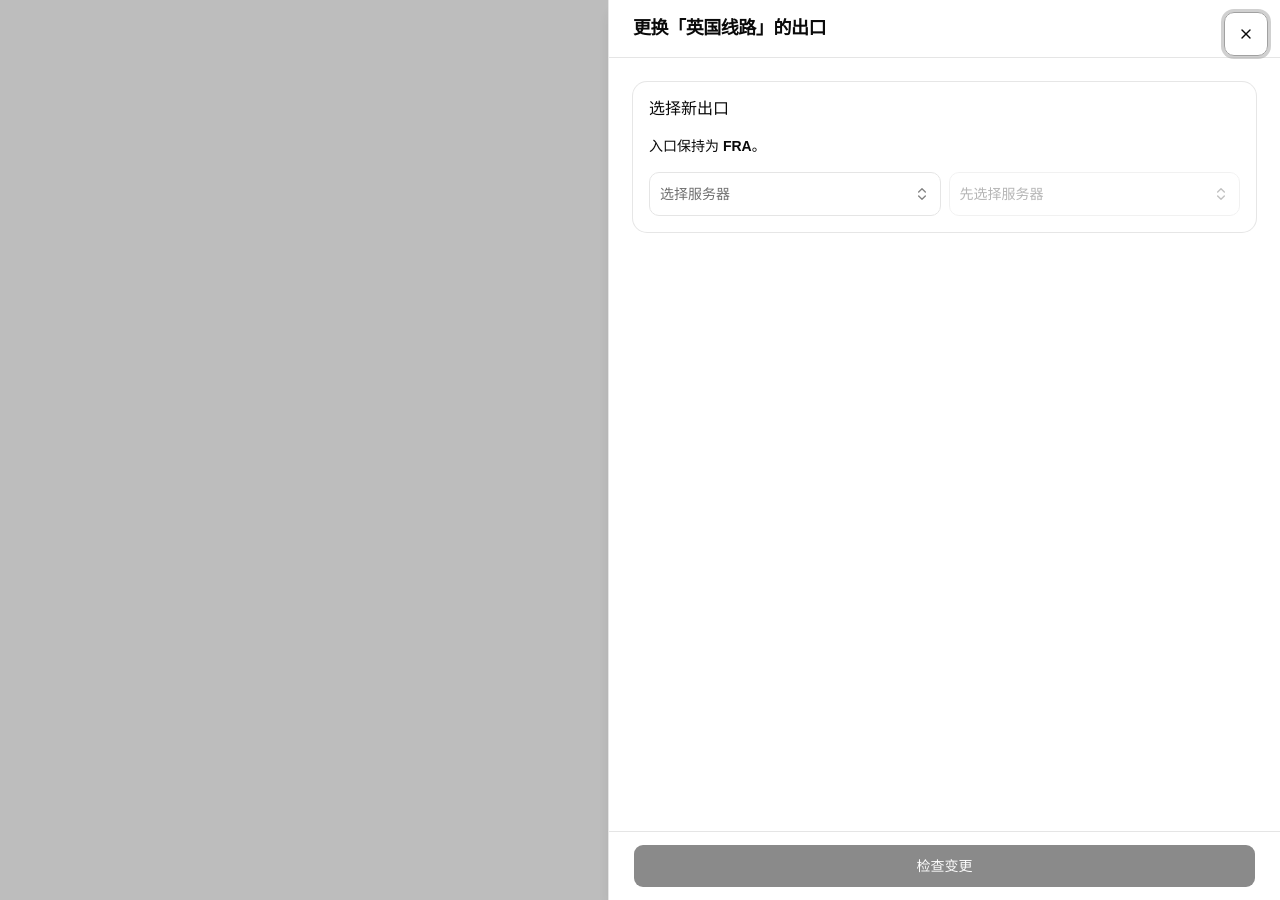
Test case: shows TLS removal explicitly and does not display raw security values
Click the dropdown named "新出口服务器" at (695, 194), box [649, 172, 940, 216]
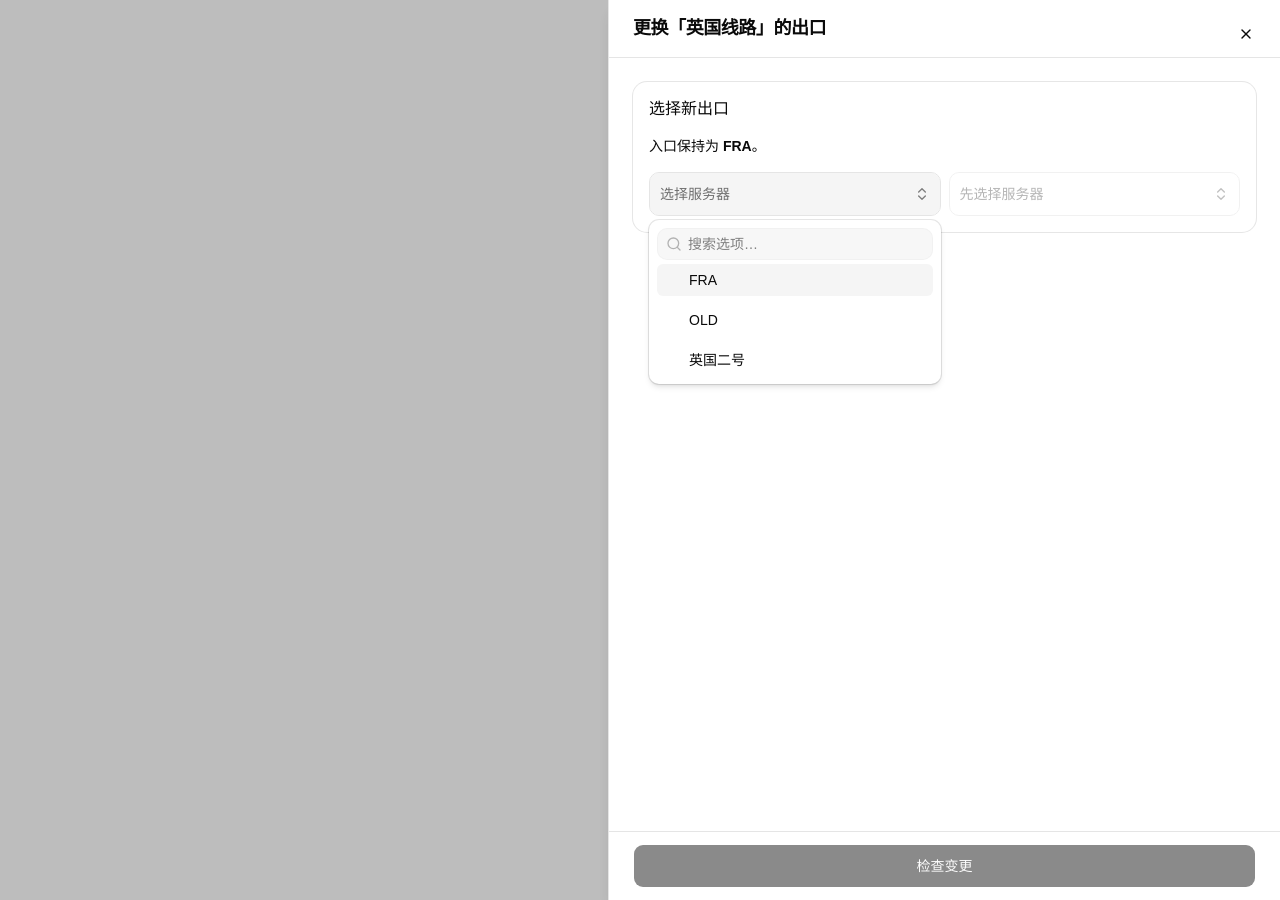
expect the dialog "FRA OLD 英国二号" is shown: met, box [649, 220, 940, 384]
Click the option "英国二号" at (717, 360), box [689, 352, 745, 368]
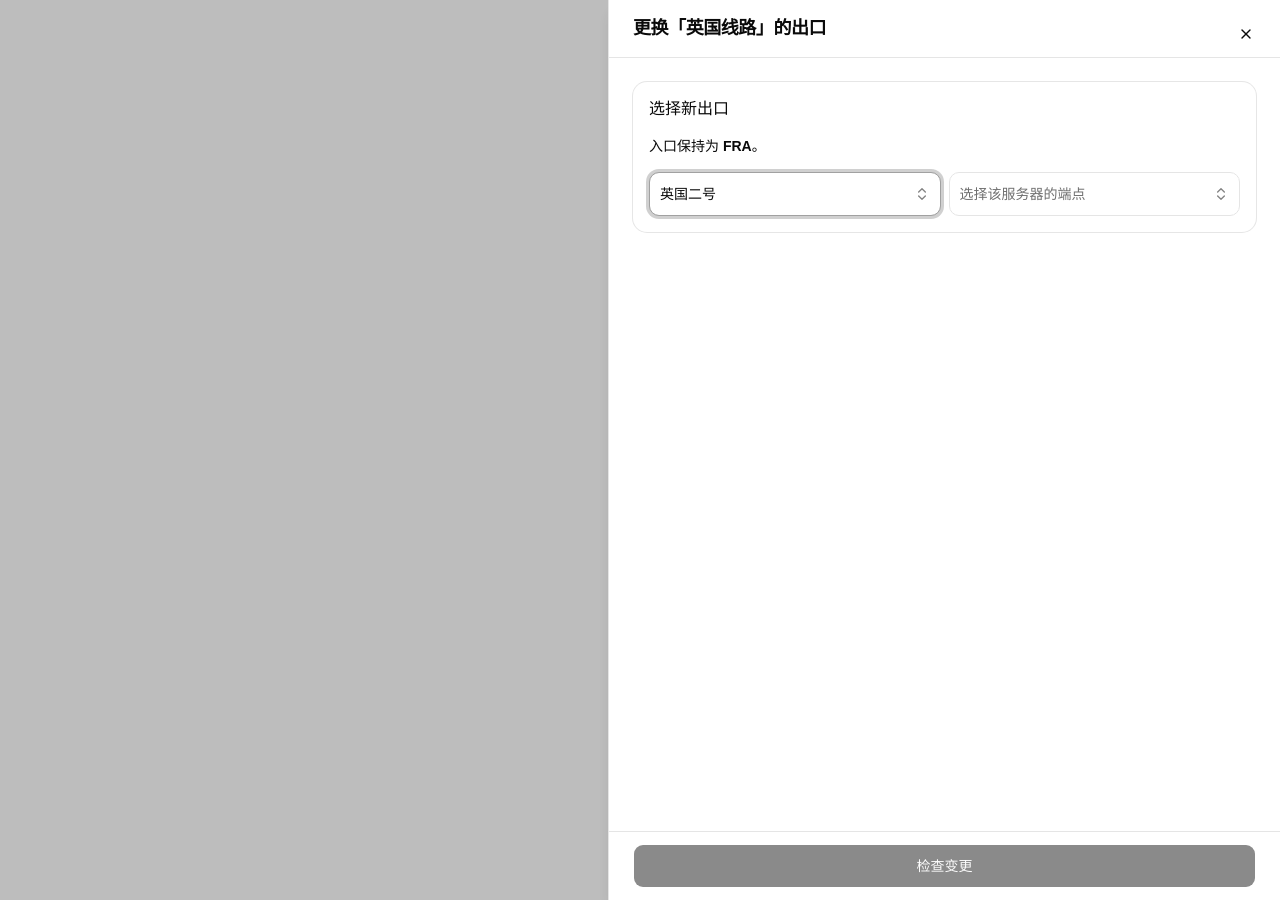
Click the dropdown named "新出口端点" at (1022, 194), box [948, 172, 1240, 216]
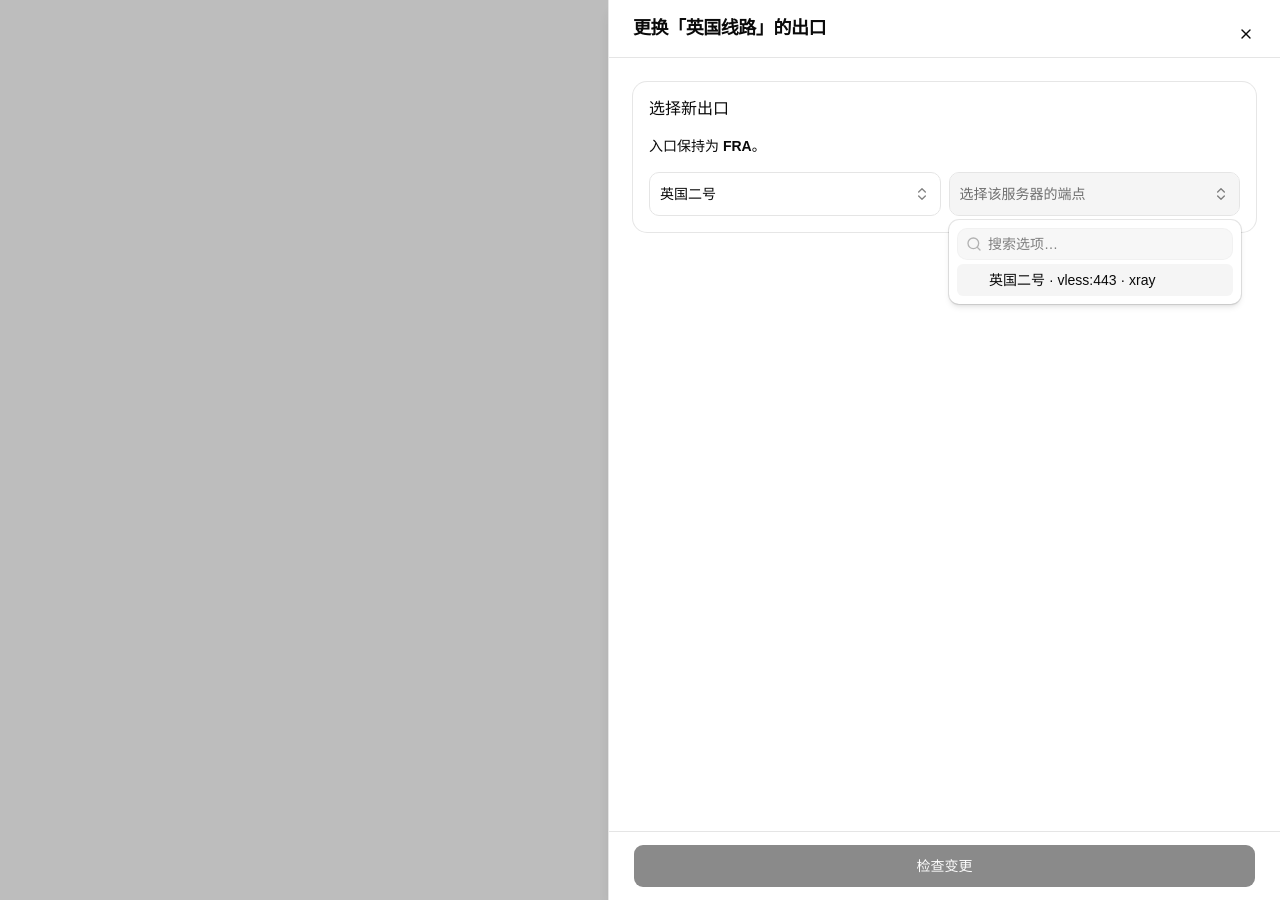
expect the dialog "英国二号 · vless:443 · xray" is shown: met, box [949, 220, 1240, 304]
Click the option "英国二号 · vless:443 · xray" at (1095, 280), box [957, 264, 1232, 296]
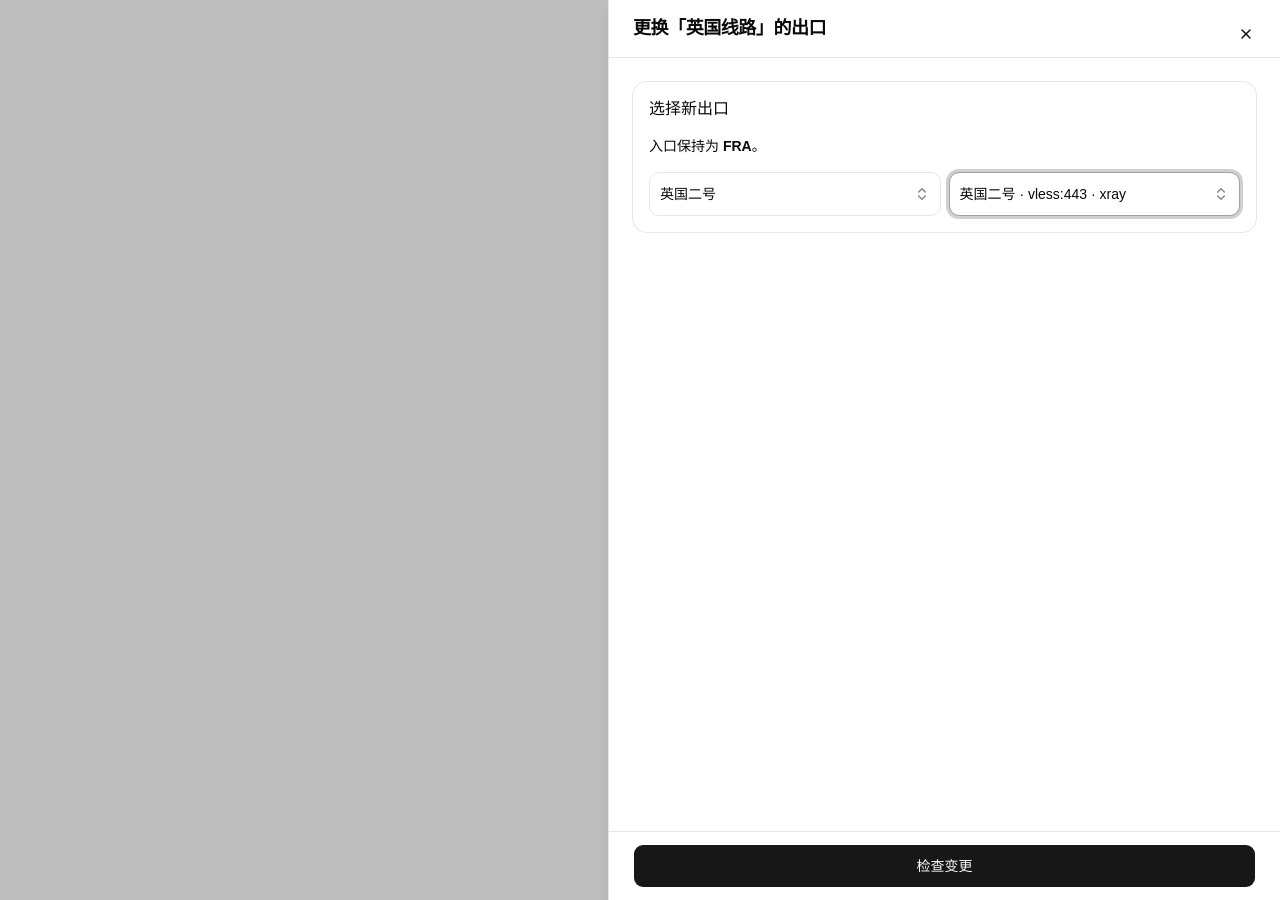
expect the button "检查变更" is enabled: met
Click the button "检查变更" at (944, 866), box [633, 844, 1256, 888]
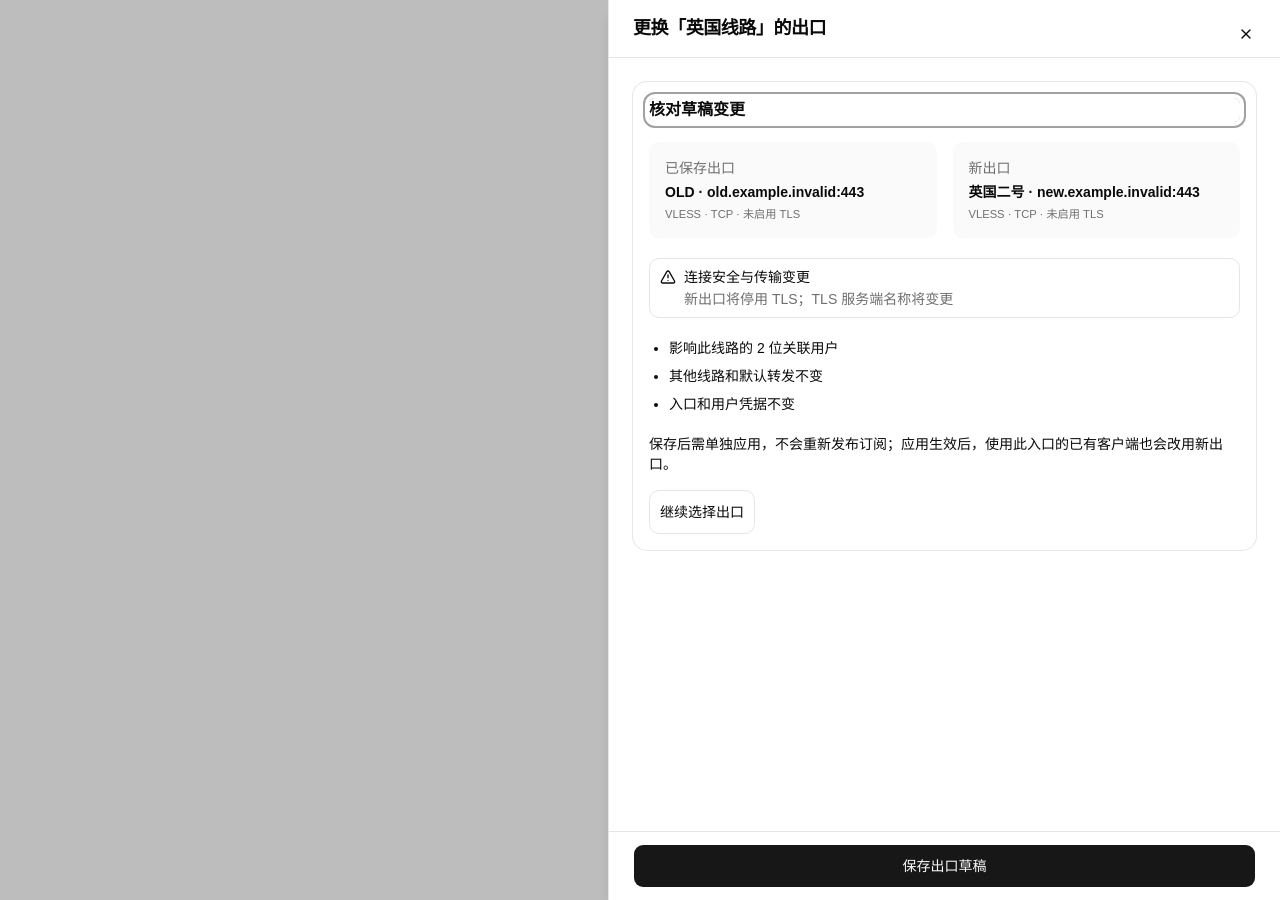
expect the text "新出口将停用 TLS；TLS 服务端名称将变更" is shown: met, box [684, 291, 953, 307]
expect the button "保存出口草稿" is shown: met, box [633, 844, 1256, 888]
